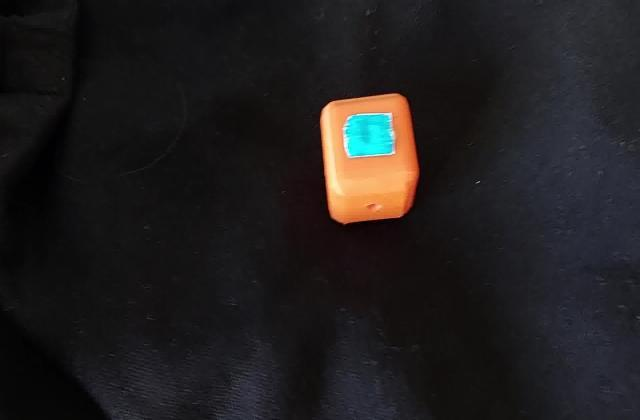blue: (352, 121, 386, 148)
sticker: (316, 88, 432, 227)
